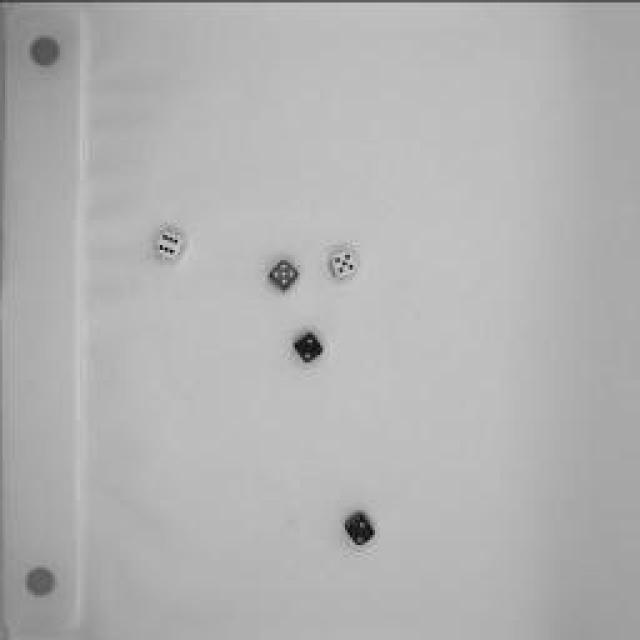dice_2: (336, 502, 384, 552), (285, 321, 330, 374)
dice_5: (261, 250, 309, 300), (323, 244, 365, 286)
dice_6: (145, 226, 190, 269)
